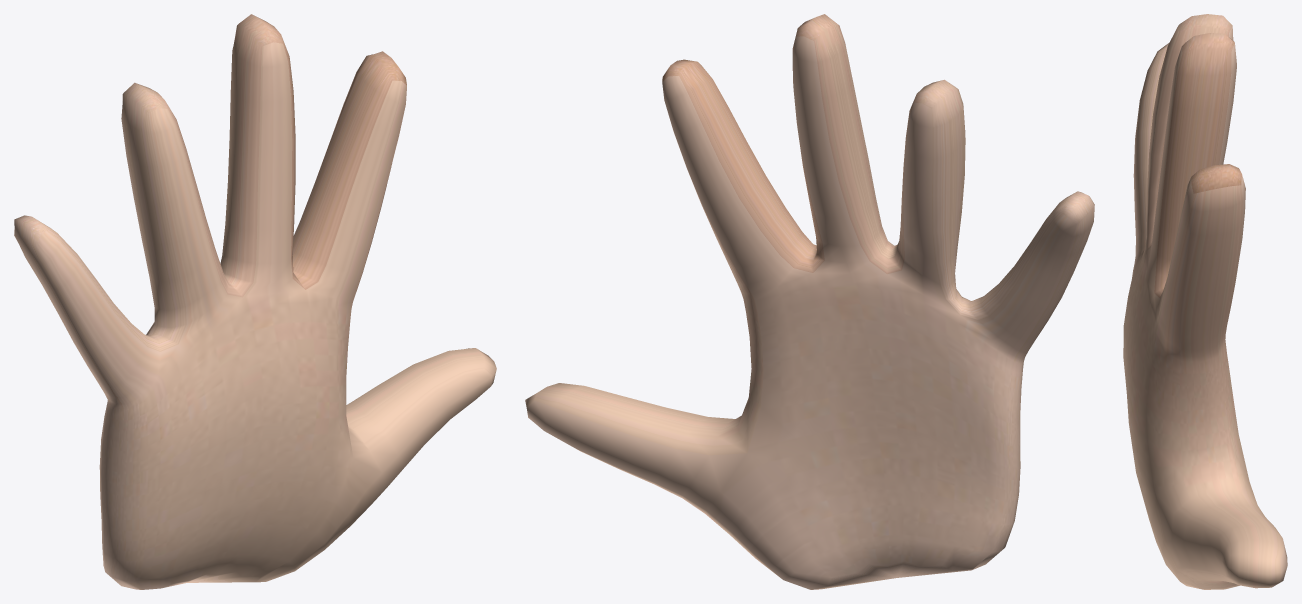
File: Left_hand02.fbx
The picture shows the model from 3 angles, left to right: view 1: azimuth 30°, elevation 25°; view 2: azimuth 150°, elevation 25°; view 3: azimuth 270°, elevation 25°; orthographic projection.
Visible parts, largest first — view 1: hand; view 2: hand; view 3: hand.
Boxes of the visible parts, bbox=[...] form: hand: bbox=[14, 14, 496, 589]; hand: bbox=[525, 14, 1094, 589]; hand: bbox=[1123, 14, 1287, 589].
Bounding box in the file's own units: 436 × 452 × 122.
1 material, 1 textured.
